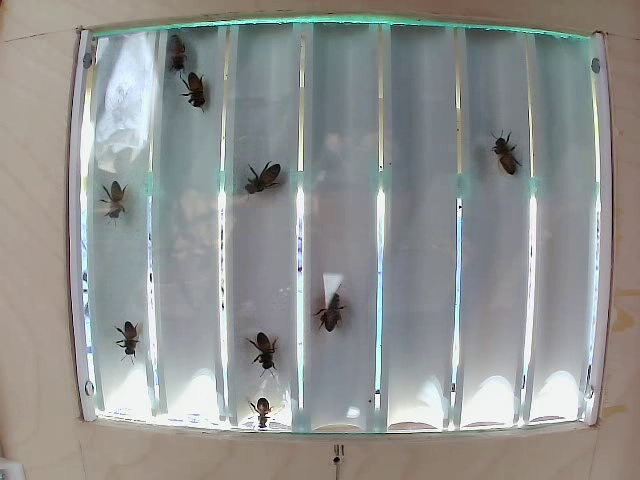bee: (96, 172, 144, 239), (304, 285, 361, 338), (244, 145, 291, 207), (244, 375, 288, 440), (96, 313, 139, 363), (243, 327, 286, 373), (490, 135, 527, 177), (181, 80, 223, 114), (167, 33, 198, 77)
